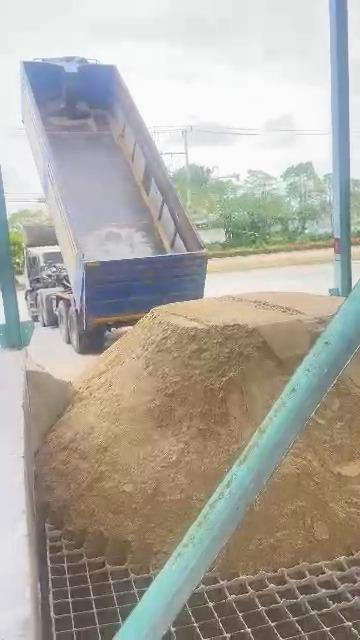sand: (40, 294, 338, 566), (220, 354, 360, 573), (28, 357, 73, 454)
